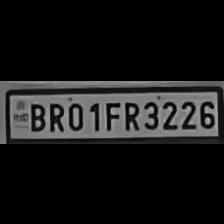0: (64, 99, 86, 131)
1: (85, 99, 102, 131)
2: (159, 98, 177, 130), (178, 97, 196, 128)
3: (141, 97, 159, 129)
6: (197, 96, 215, 128)
B: (27, 99, 46, 130)
F: (102, 99, 120, 131)
R: (120, 97, 140, 130), (46, 98, 64, 132)
